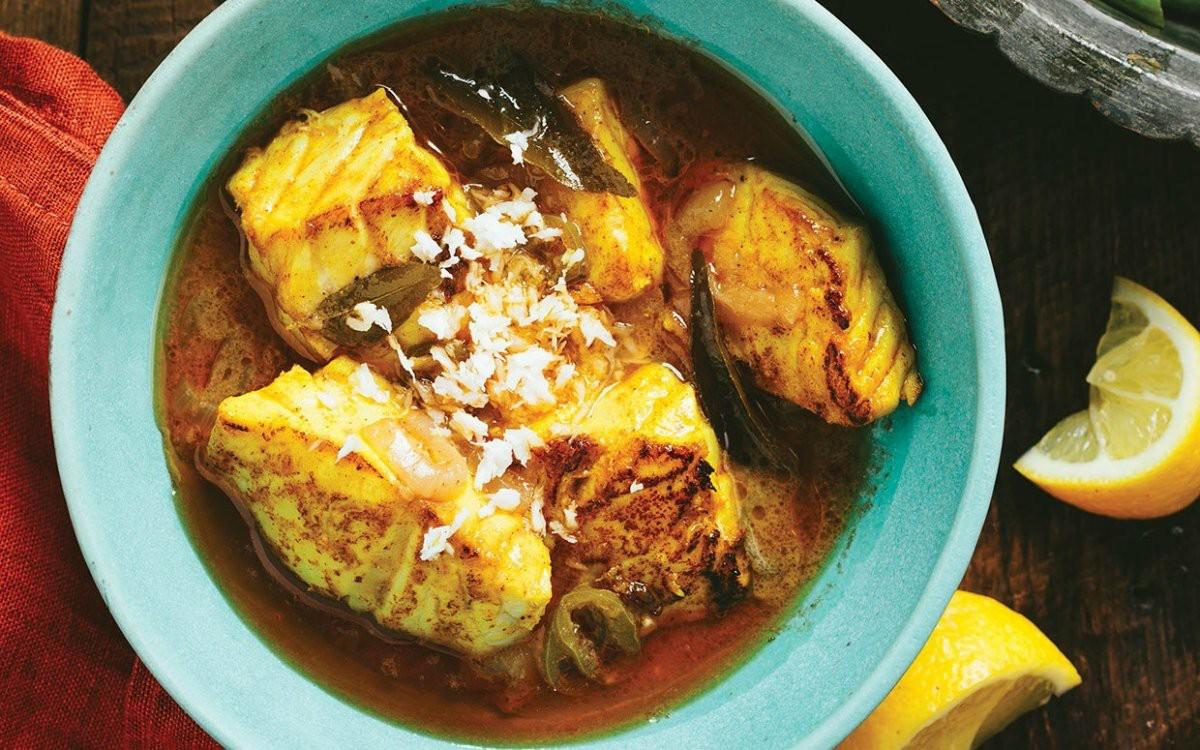FishCurry: (156, 0, 926, 728)
